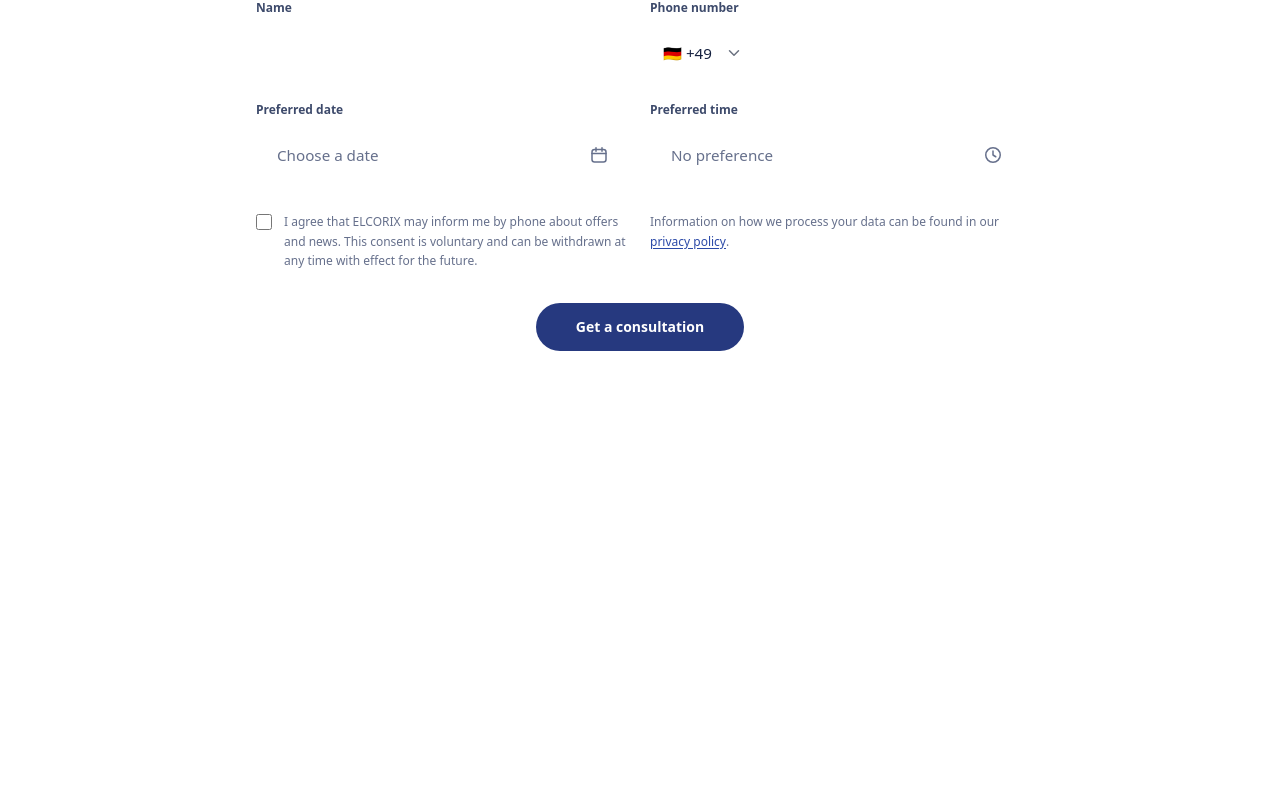
Test: TimePicker (desktop time slots) › opens a list of half-hour slots from a button labelled with the field
The width and height of the screenshot is (1280, 800).
What coordinates should you click on to do the following:
click the button named "preferred time"
I would click on:
 (722, 155)
Its box is [650,126,1024,184].
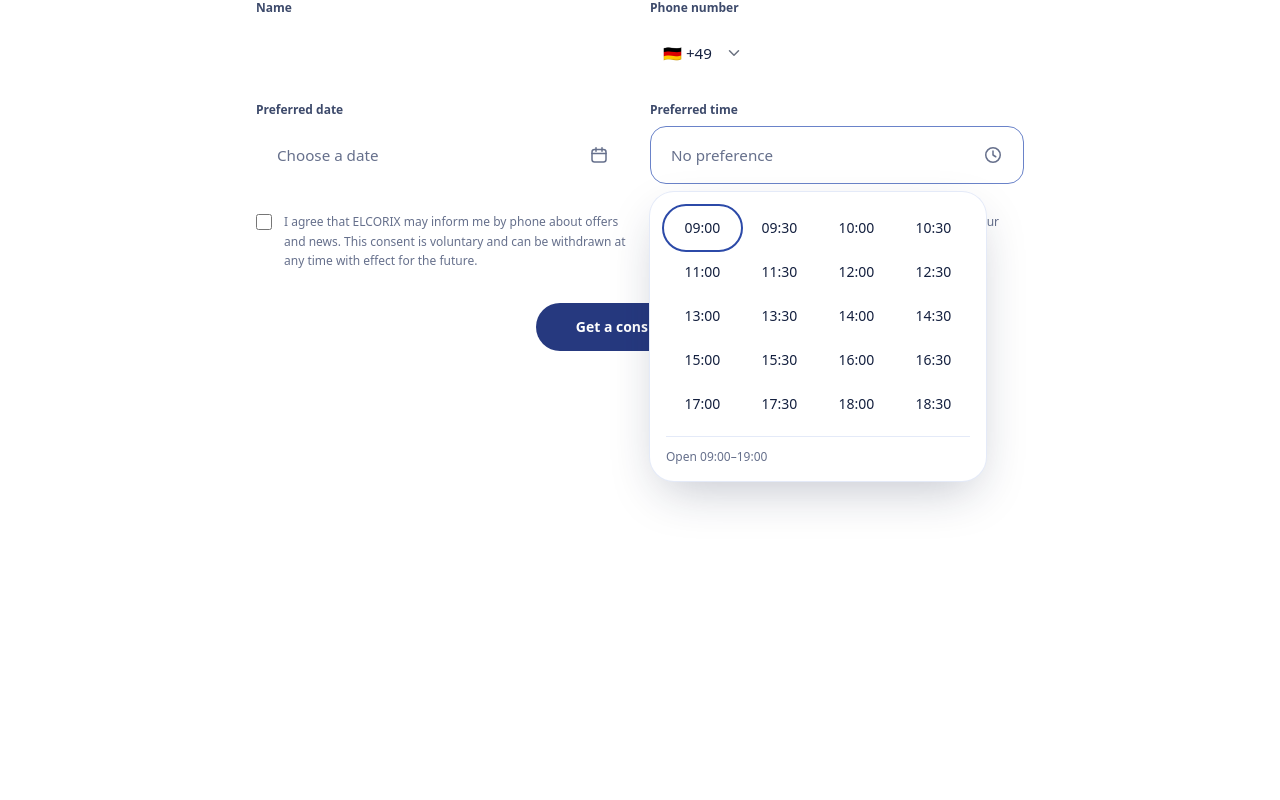
Result: the text "Open 09:00–19:00" is shown at [666,449,767,465]
What coordinates should you click on to do the following:
click the option "14:30"
I would click on:
 (934, 316)
Its box is [897,296,970,336].
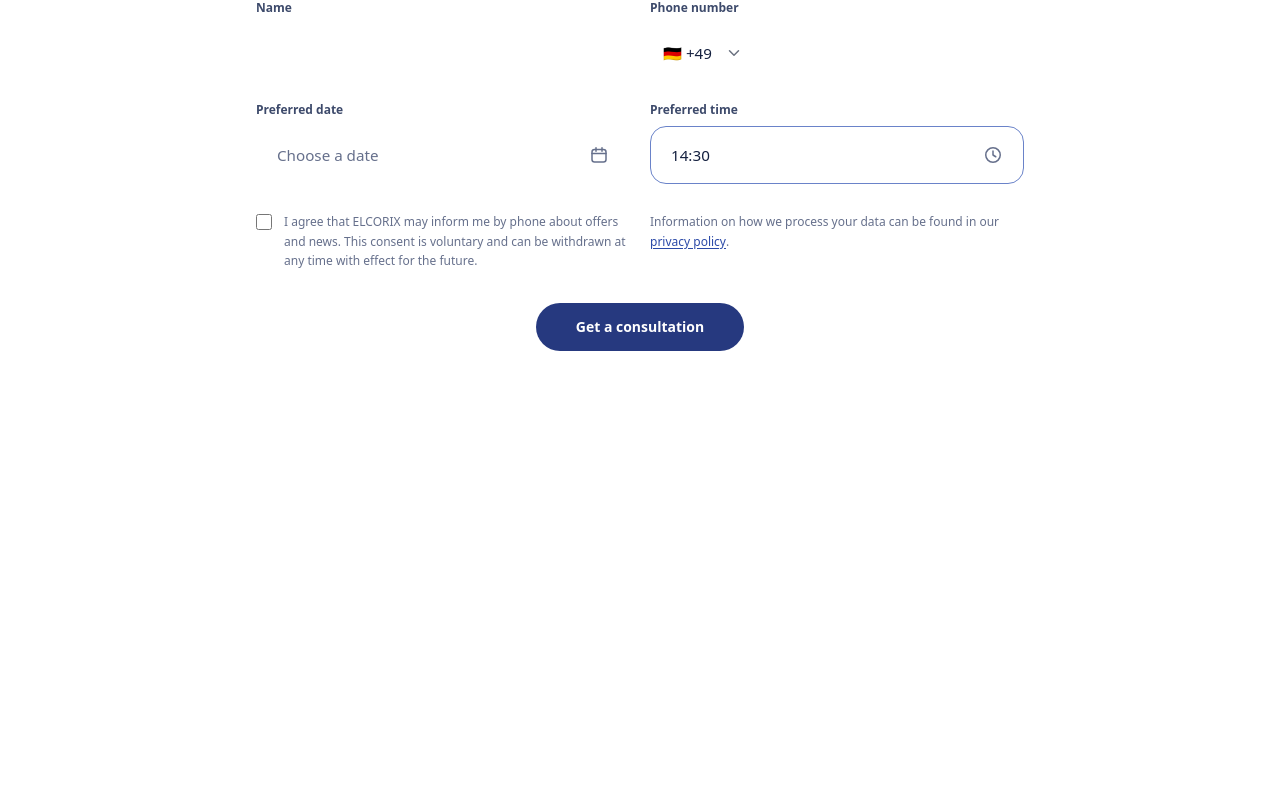
Expected: the element named "time" holds "14:30", [650,126,1024,184]
Result: the dialog is gone
